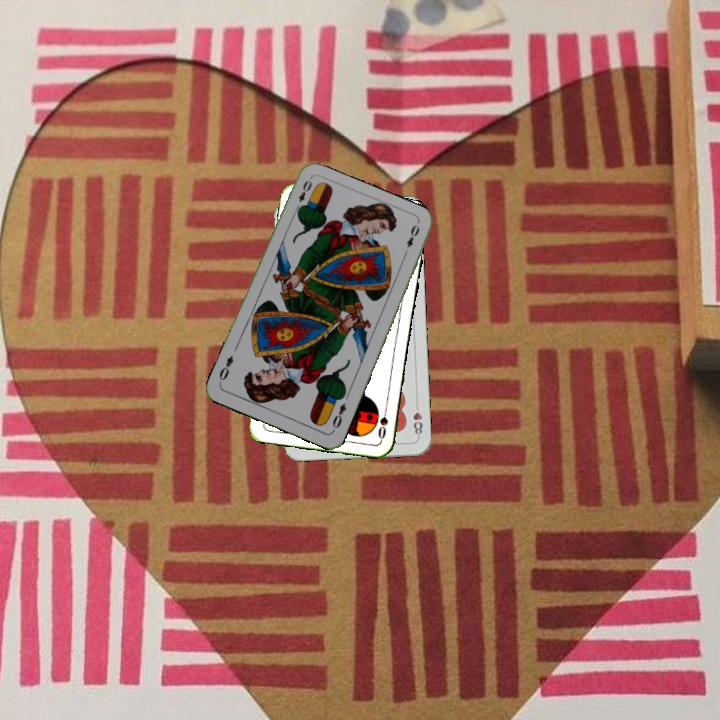EO: (291, 175, 314, 214), (328, 399, 349, 434)
H8: (409, 399, 425, 440)
SO: (374, 402, 391, 442)
